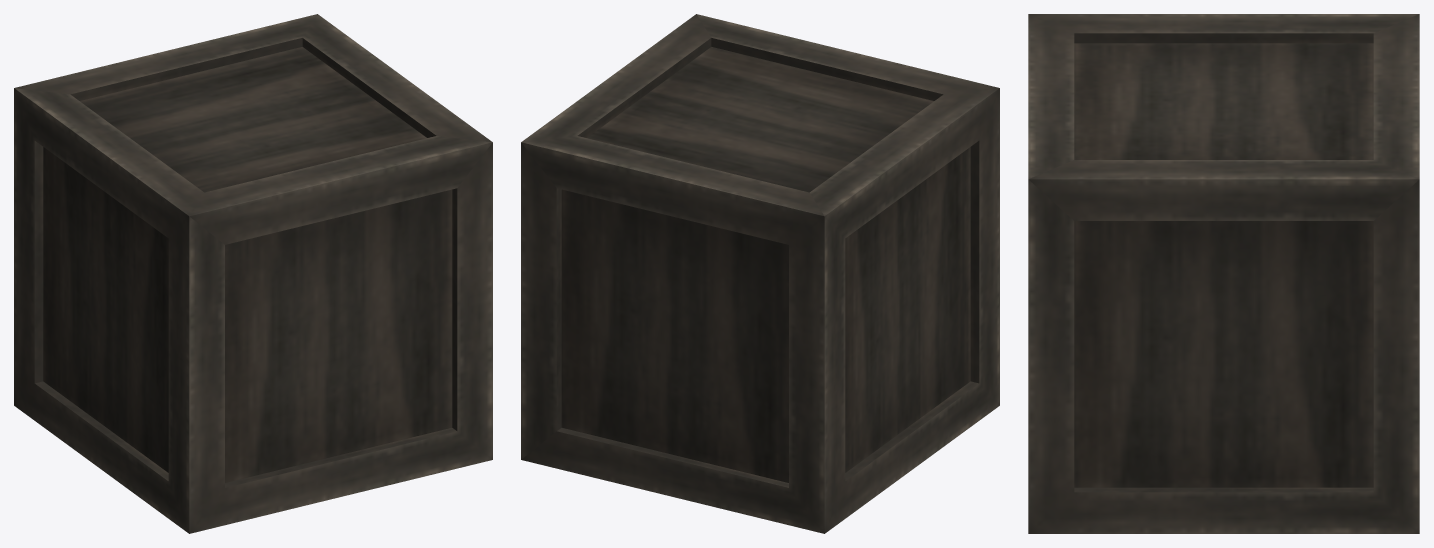
File: Crate.fbx
3 renders of one model, left to right at view 1: azimuth 30°, elevation 25°; view 2: azimuth 150°, elevation 25°; view 3: azimuth 270°, elevation 25°, orthographic. The views are drawn at different scales.
Parts seen in each view (by area): view 1: Crate; view 2: Crate; view 3: Crate.
Boxes of the visible parts, x1,y1,x2,y2 form: Crate: [14, 14, 492, 533]; Crate: [521, 14, 999, 533]; Crate: [1028, 14, 1419, 533].
Bounding box in the file's own units: 80.24 × 80.24 × 80.24.
